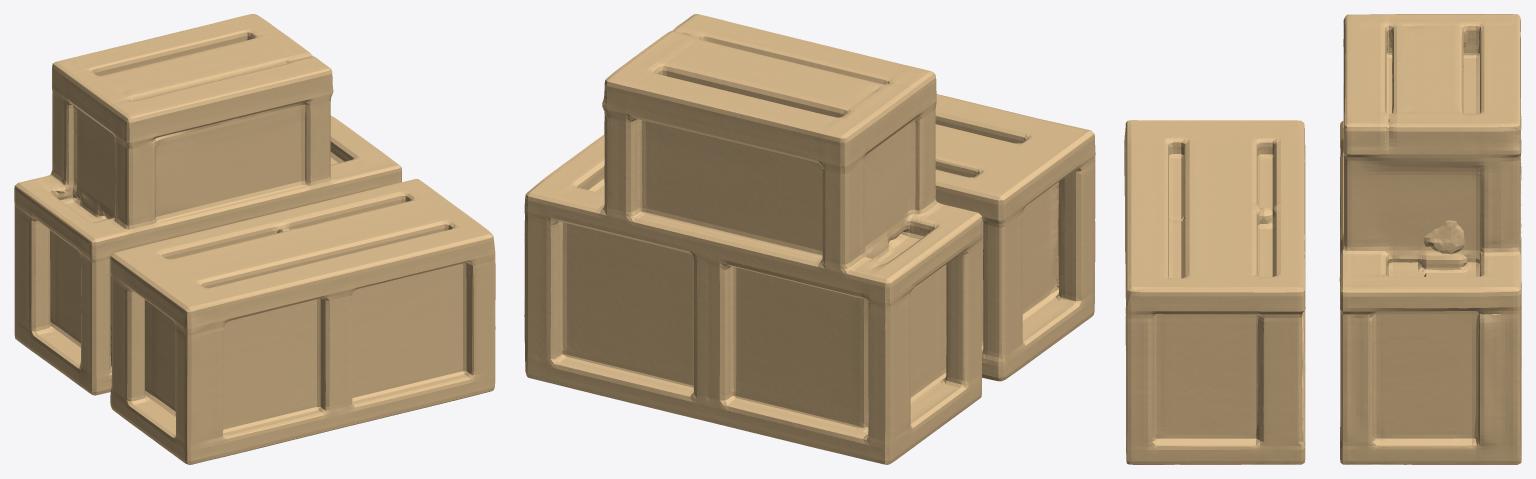
File: cabinet.glb
The picture shows the model from 3 angles, left to right: view 1: azimuth 30°, elevation 25°; view 2: azimuth 150°, elevation 25°; view 3: azimuth 270°, elevation 25°; orthographic projection. The views are drawn at different scales.
Visible parts, largest first — view 1: Block3D_Item; view 2: Block3D_Item; view 3: Block3D_Item.
Part boxes in pixels (left/top/right/bottom): Block3D_Item: left=14, top=14, right=495, bottom=464; Block3D_Item: left=524, top=14, right=1095, bottom=464; Block3D_Item: left=1124, top=14, right=1521, bottom=464.
Bounding box in the file's own units: 1.06 × 0.8703 × 1.03.
